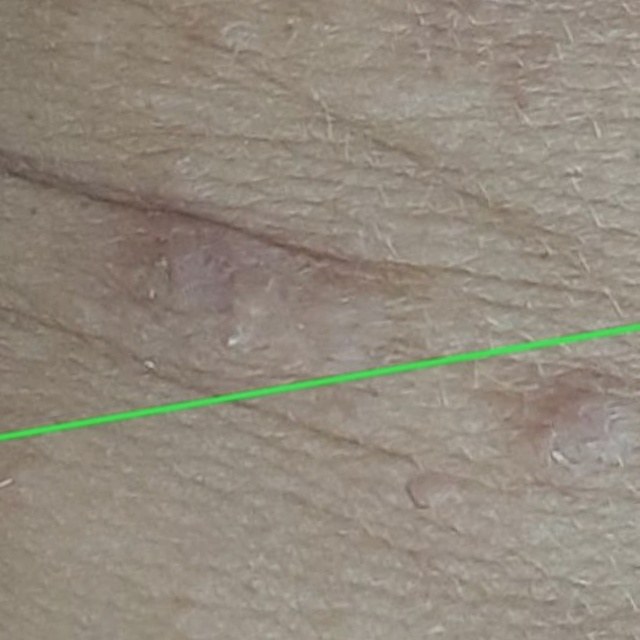Scabies: (0, 0, 639, 437)
